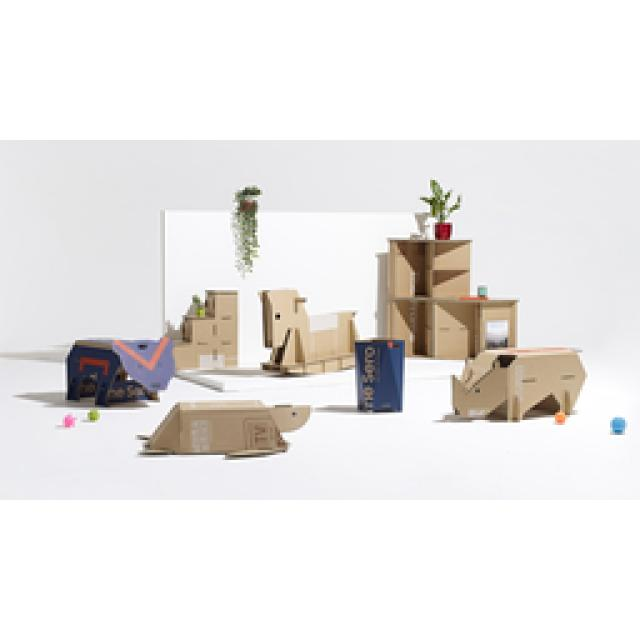cardboard: (260, 238, 578, 420), (65, 290, 238, 402), (145, 400, 308, 455)
